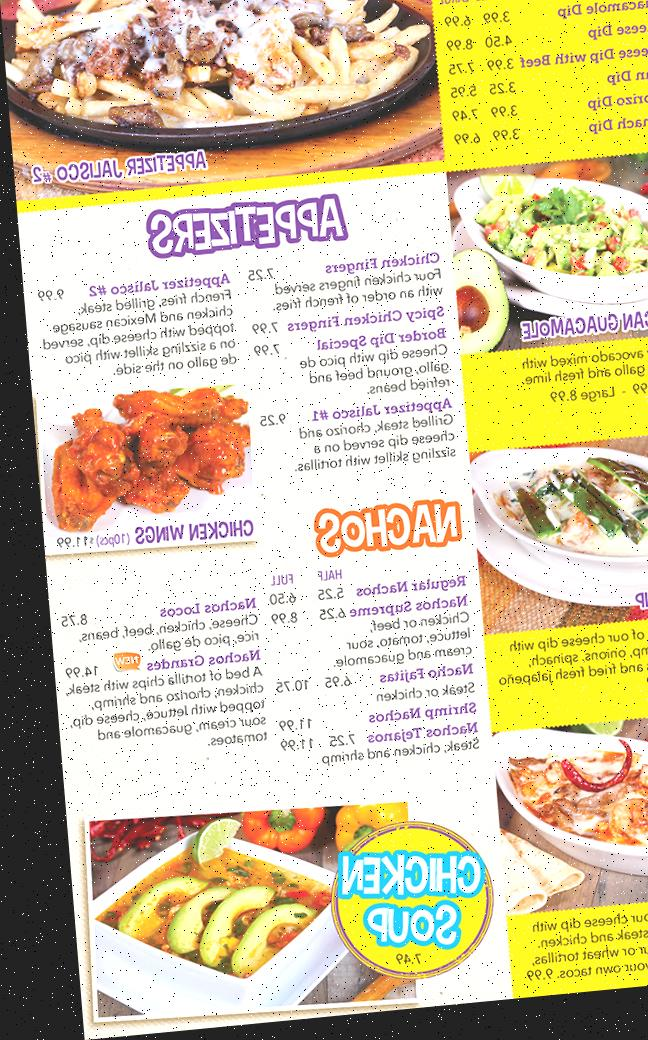Menu-Items: (24, 274, 238, 391), (43, 649, 257, 765), (479, 586, 648, 723), (500, 875, 648, 1006), (483, 315, 648, 425), (244, 601, 462, 681), (240, 334, 448, 413), (252, 406, 451, 487), (39, 597, 254, 662), (229, 257, 442, 321), (259, 665, 468, 724), (245, 730, 476, 779), (256, 576, 460, 617), (430, 54, 648, 91), (438, 76, 648, 114), (436, 3, 648, 40), (260, 705, 470, 741), (448, 123, 648, 158), (437, 29, 648, 62), (236, 309, 440, 343), (444, 99, 648, 132)
